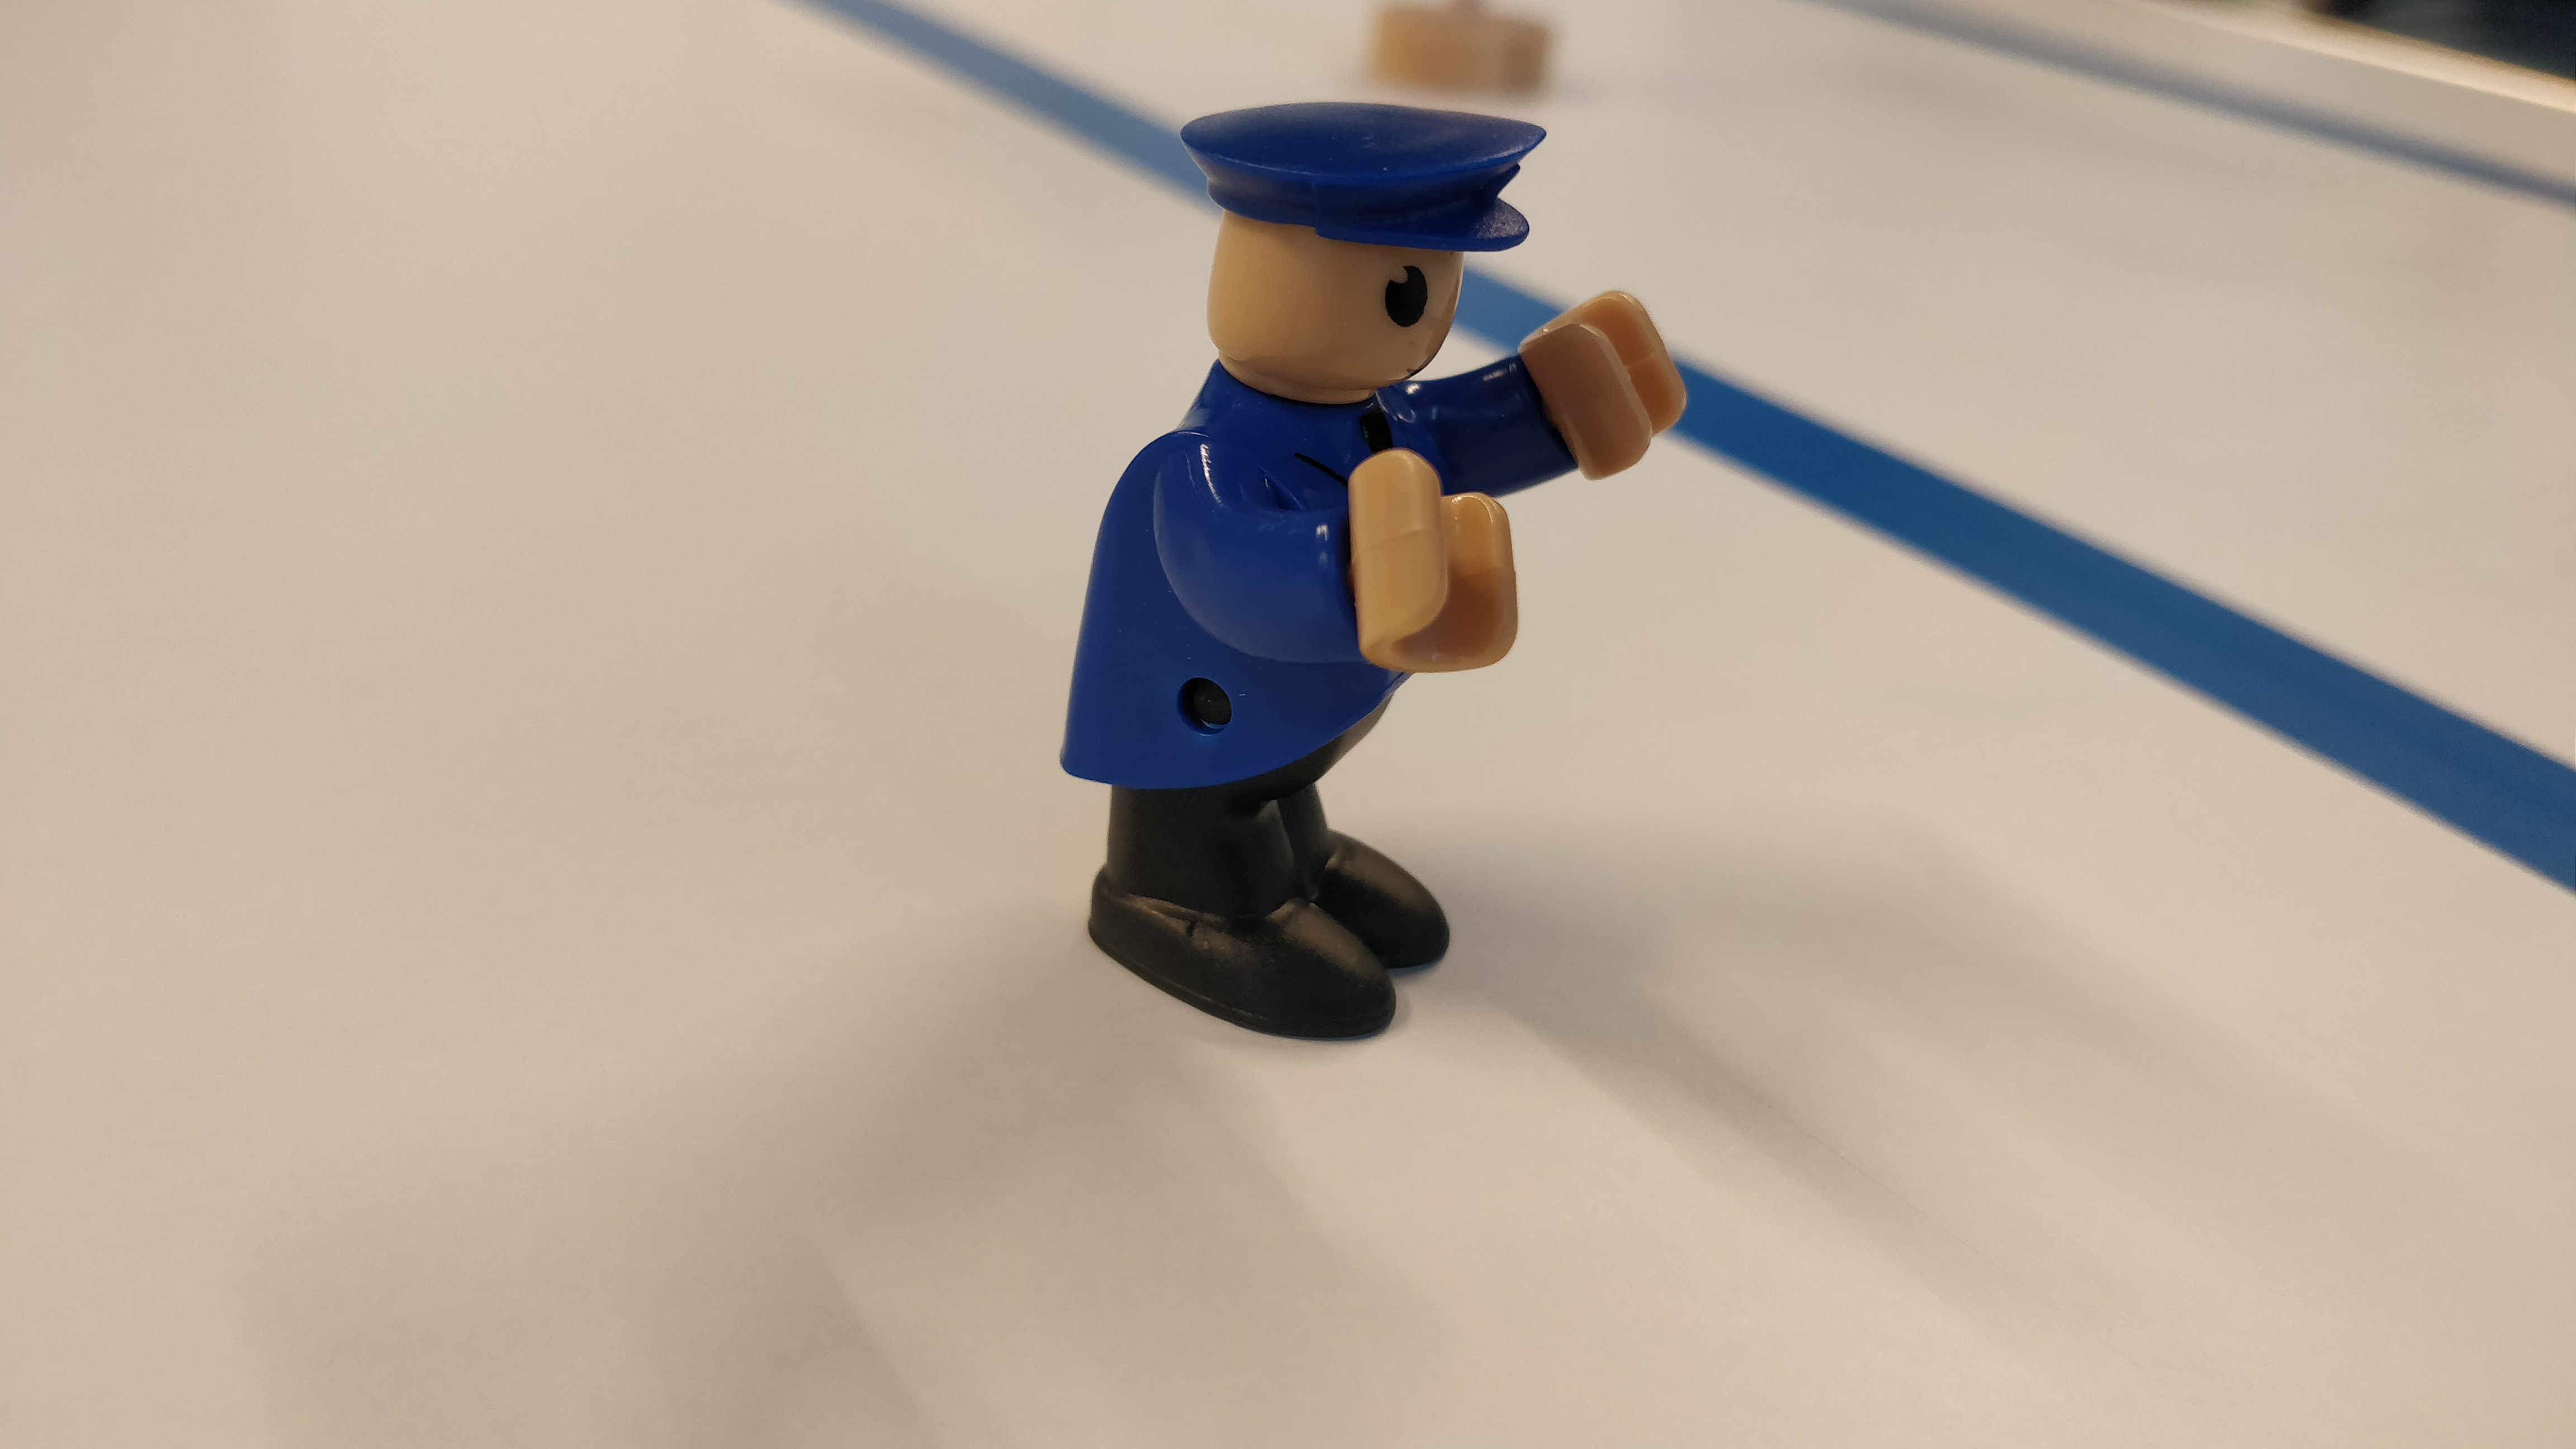Person: (1052, 98, 1701, 1055)
